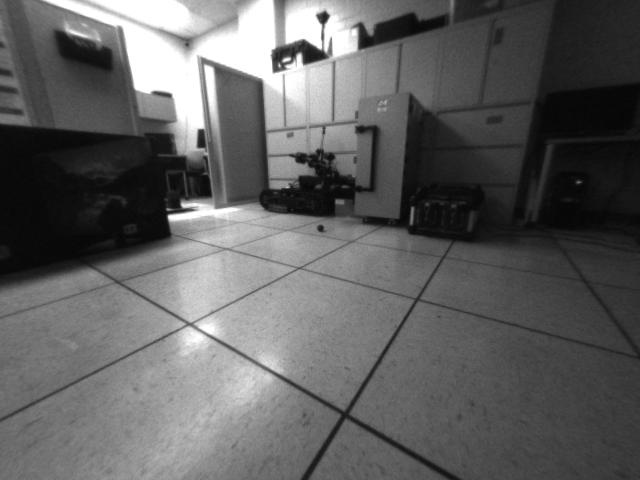dogtoy: (313, 221, 328, 233)
